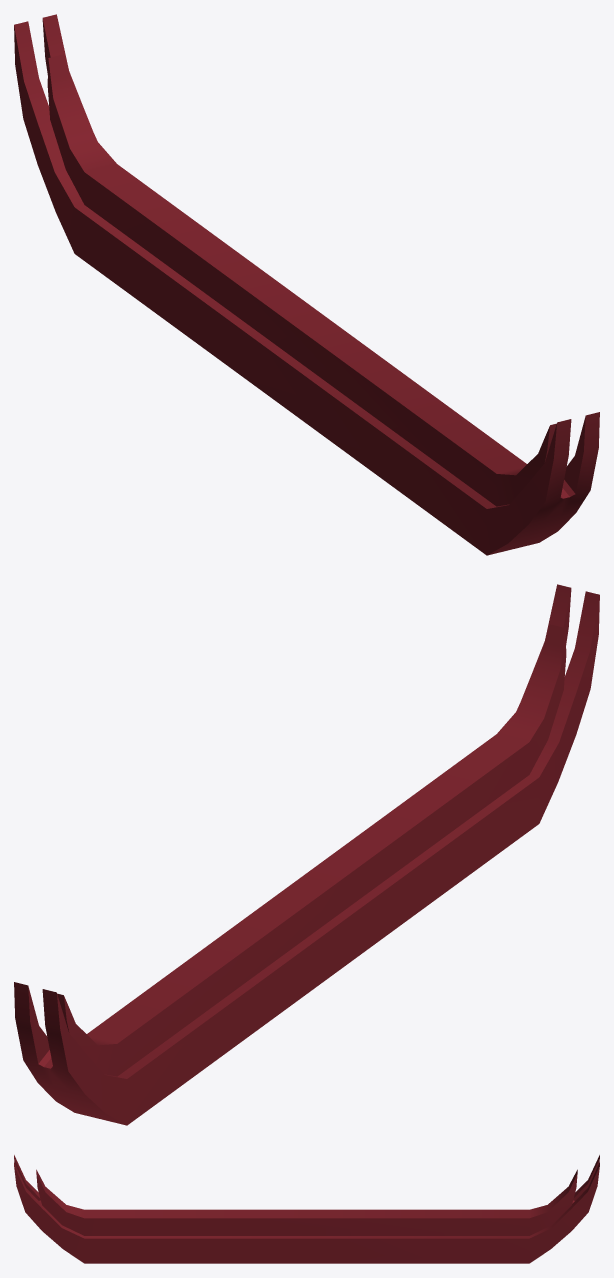
File: BRoofTopTrim_C.fbx
3 views of the same model, one above another, from view 1: azimuth 30°, elevation 25°; view 2: azimuth 150°, elevation 25°; view 3: azimuth 270°, elevation 25° (orthographic). The views are drawn at different scales.
Visible parts, largest first — view 1: BRoofTopTrim_C; view 2: BRoofTopTrim_C; view 3: BRoofTopTrim_C.
Boxes of the visible parts, bbox=[...] form: BRoofTopTrim_C: bbox=[14, 14, 599, 555]; BRoofTopTrim_C: bbox=[14, 584, 599, 1125]; BRoofTopTrim_C: bbox=[14, 1155, 599, 1263].
Size of the model in its own units: 60.56 by 198 by 1085.
